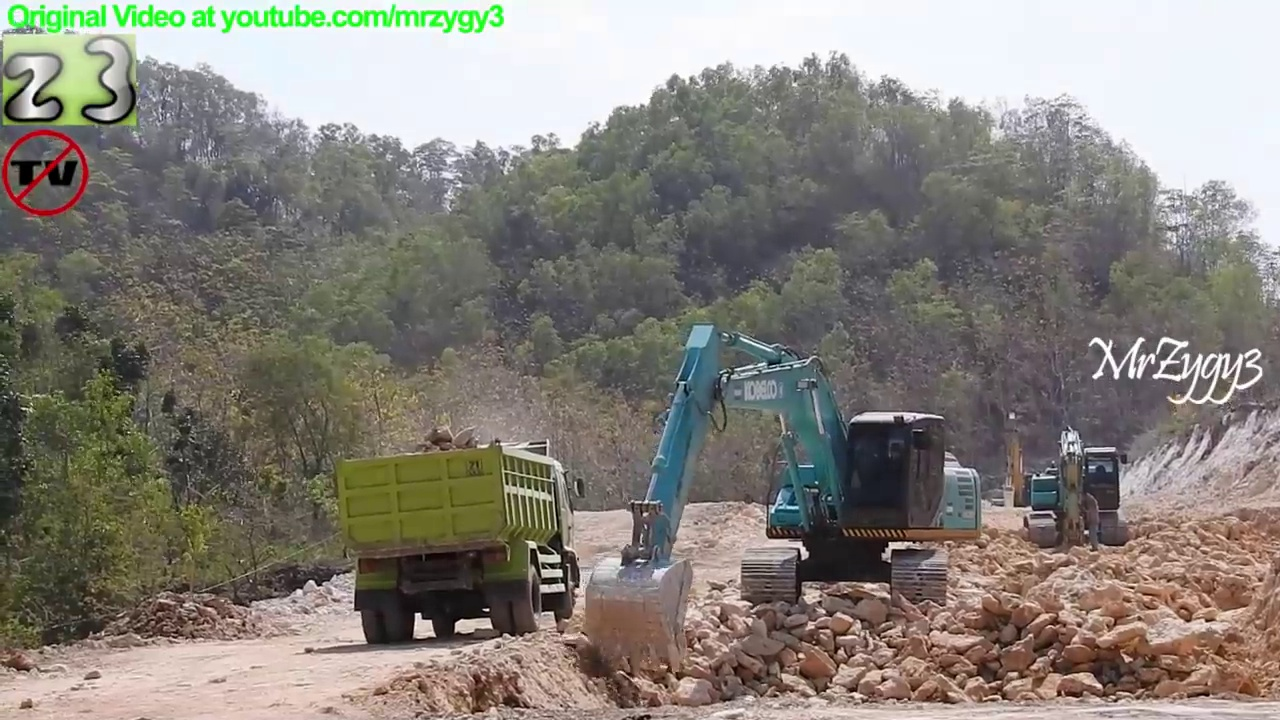excavator: (582, 317, 988, 674), (982, 406, 1060, 520)
excavator breaker: (1020, 423, 1136, 555)
truck: (330, 434, 589, 648)
worker: (1077, 486, 1109, 557)
